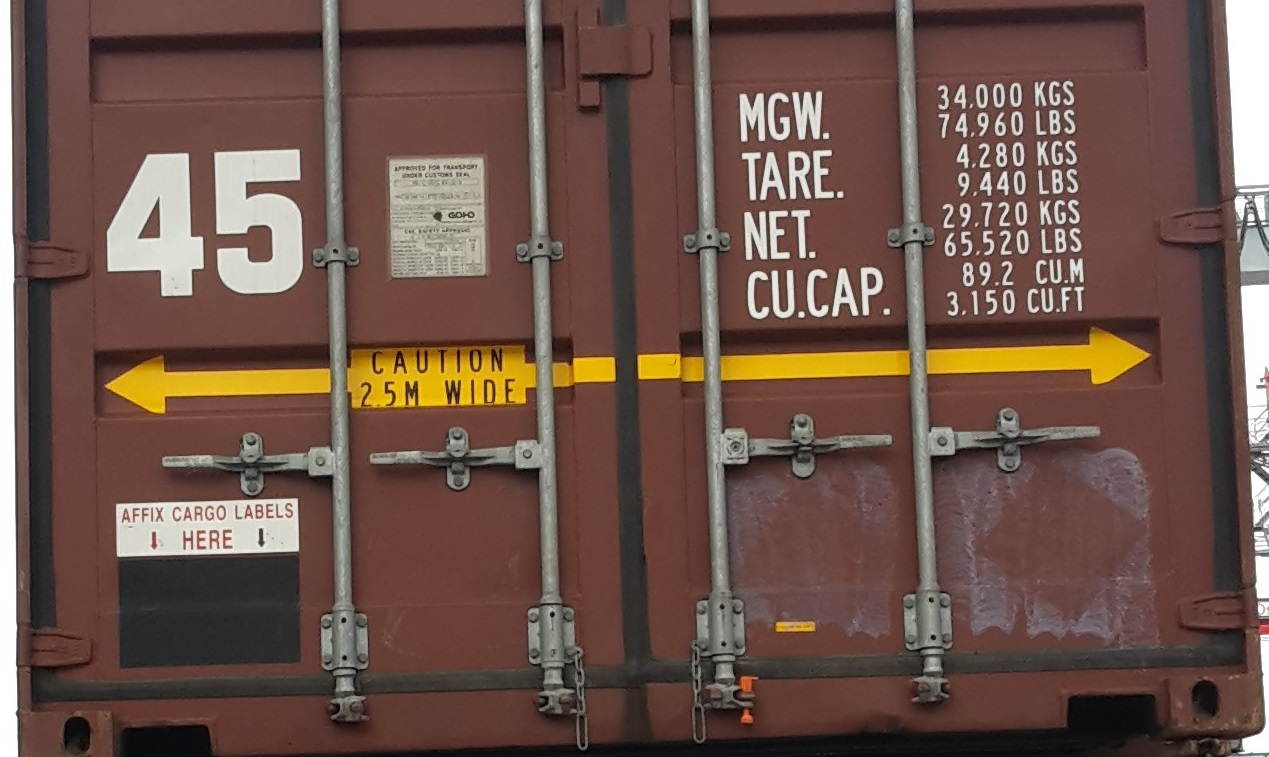container_door: (10, 7, 1265, 753)
